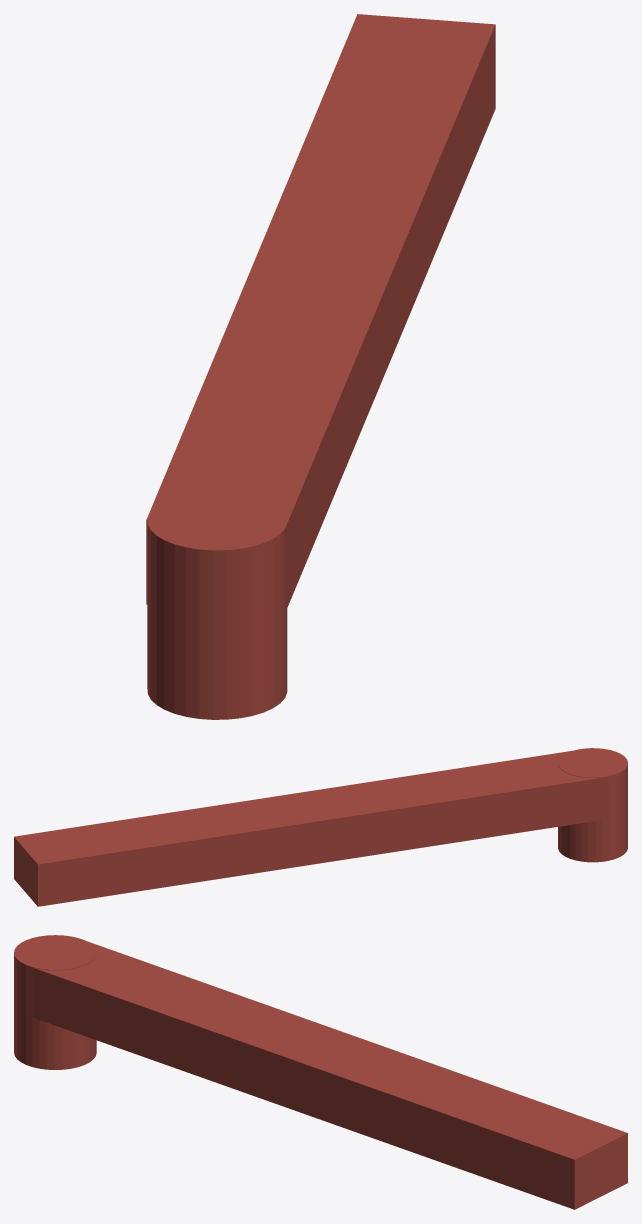
The picture shows the model from 3 angles, top to bottom: view 1: azimuth 30°, elevation 25°; view 2: azimuth 150°, elevation 25°; view 3: azimuth 270°, elevation 25°; orthographic projection. The views are drawn at different scales.
Visible parts, largest first — view 1: tmp_export_Cylinder.013; view 2: tmp_export_Cylinder.013; view 3: tmp_export_Cylinder.013.
Part boxes in pixels (box(x1,y1,x2,y2)): tmp_export_Cylinder.013: box(146, 14, 495, 719); tmp_export_Cylinder.013: box(14, 748, 627, 906); tmp_export_Cylinder.013: box(14, 935, 627, 1209).
Bounding box in the file's own units: 0.962 × 1.11 × 0.2.
